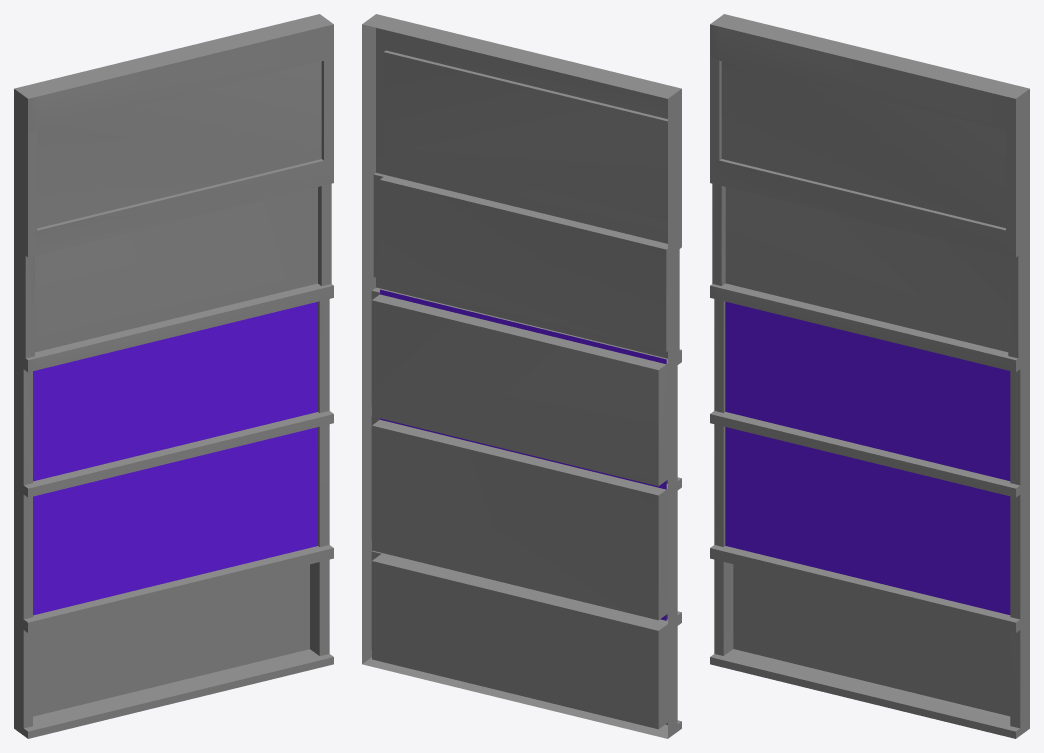
File: Building_Tile_1250x2500_G.FBX
The picture shows the model from 3 angles, left to right: view 1: azimuth 30°, elevation 25°; view 2: azimuth 150°, elevation 25°; view 3: azimuth 330°, elevation 25°; orthographic projection.
Visible parts, largest first — view 1: Geometry_Building_Tile_1250x2500_G_LOD00; view 2: Geometry_Building_Tile_1250x2500_G_LOD00; view 3: Geometry_Building_Tile_1250x2500_G_LOD00.
Part boxes in pixels (<box>): Geometry_Building_Tile_1250x2500_G_LOD00: <box>14,14,333,738</box>; Geometry_Building_Tile_1250x2500_G_LOD00: <box>362,14,681,738</box>; Geometry_Building_Tile_1250x2500_G_LOD00: <box>710,14,1029,738</box>.
Size of what is drawn, in the model's own units: 1250 by 2500 by 100.
